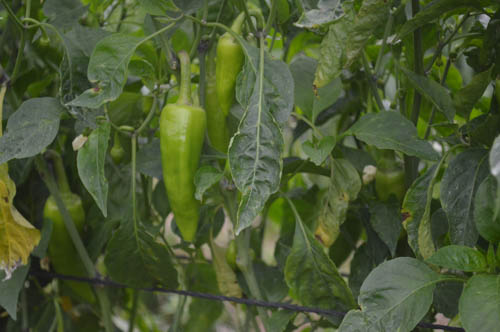ChiliPepper: (159, 105, 205, 242), (44, 197, 91, 302), (372, 169, 408, 241), (210, 36, 242, 116), (204, 80, 231, 160)
